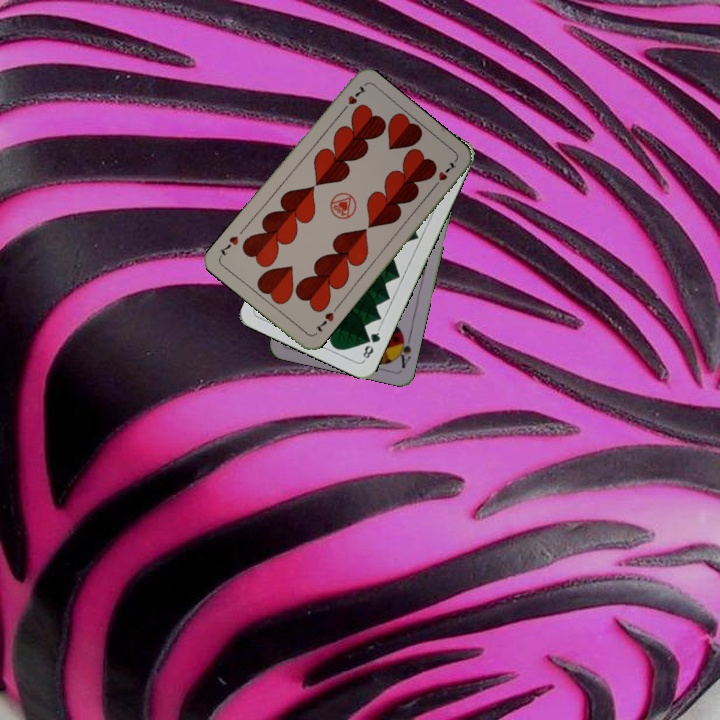G8: (359, 325, 383, 363)
H7: (337, 82, 368, 115), (311, 308, 336, 334)
SA: (393, 329, 414, 371)
